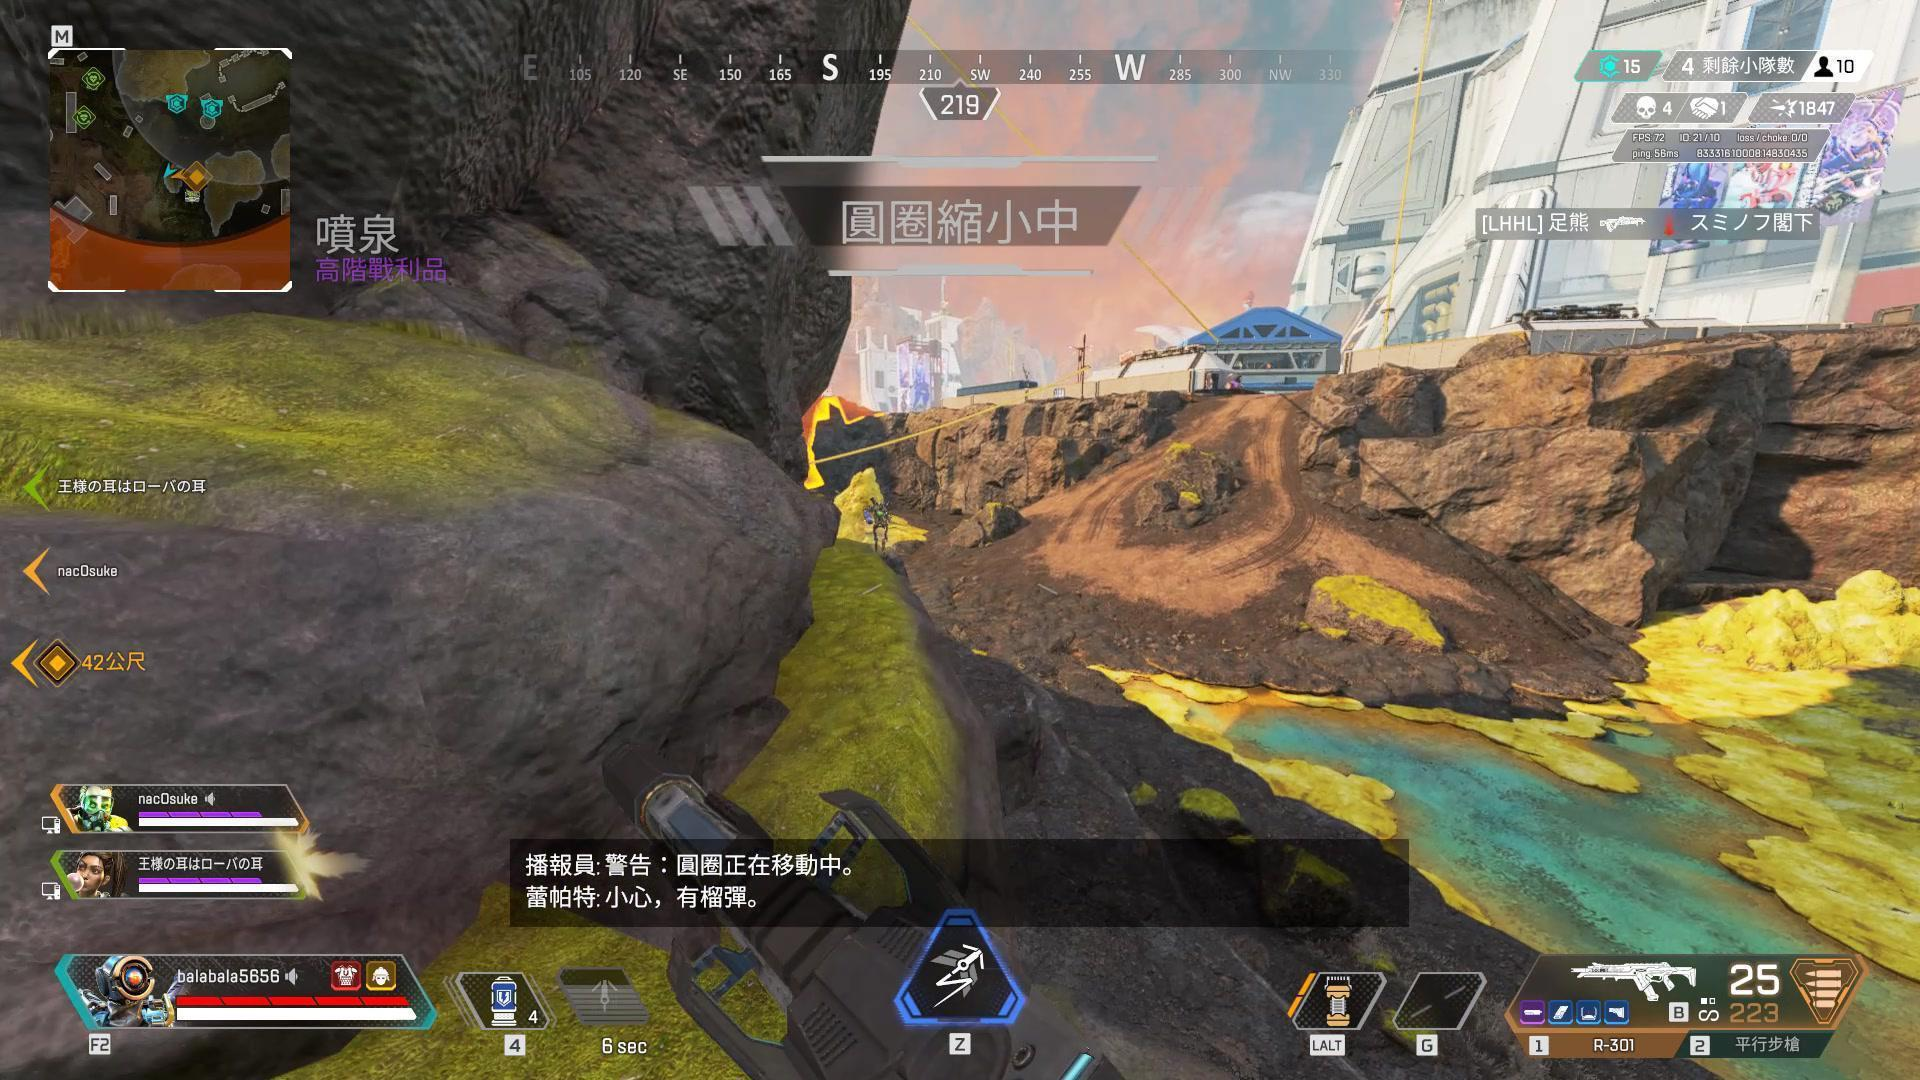avatar: (862, 492, 896, 557)
